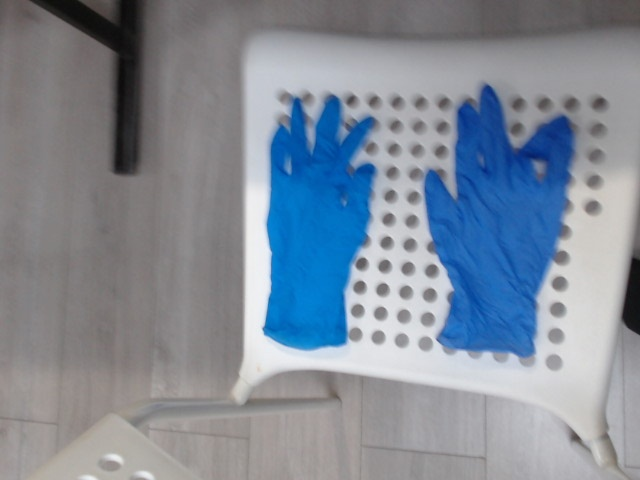medical_glove: (425, 86, 571, 354), (260, 98, 371, 344)
